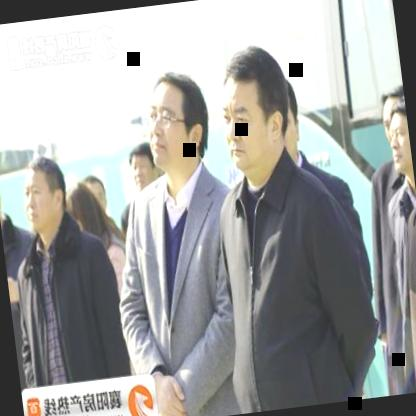head: (212, 36, 300, 184), (138, 60, 215, 179), (16, 148, 74, 244), (380, 92, 414, 176), (66, 174, 106, 241), (77, 168, 112, 228), (123, 138, 160, 192)
